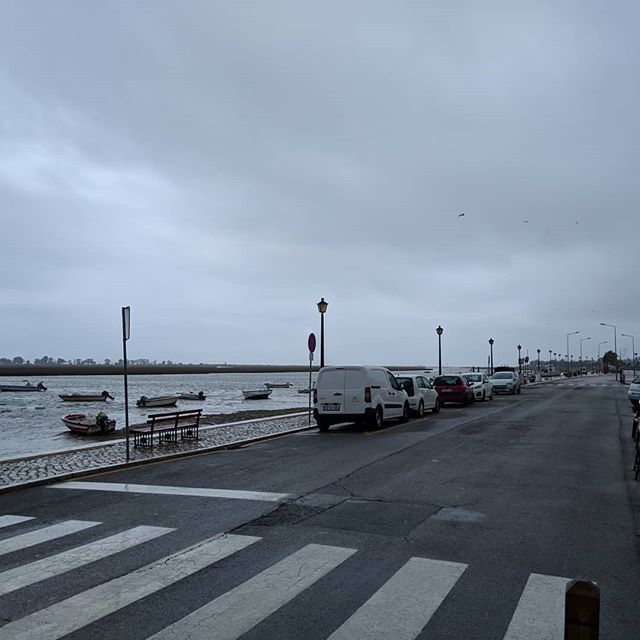boat: (62, 404, 117, 438), (58, 387, 115, 409), (133, 388, 179, 413), (232, 381, 278, 406)
crosswalk: (1, 486, 621, 639)
sea: (1, 367, 330, 457)
sky: (18, 1, 640, 356)
street: (73, 382, 640, 616)
van: (311, 366, 410, 434)
